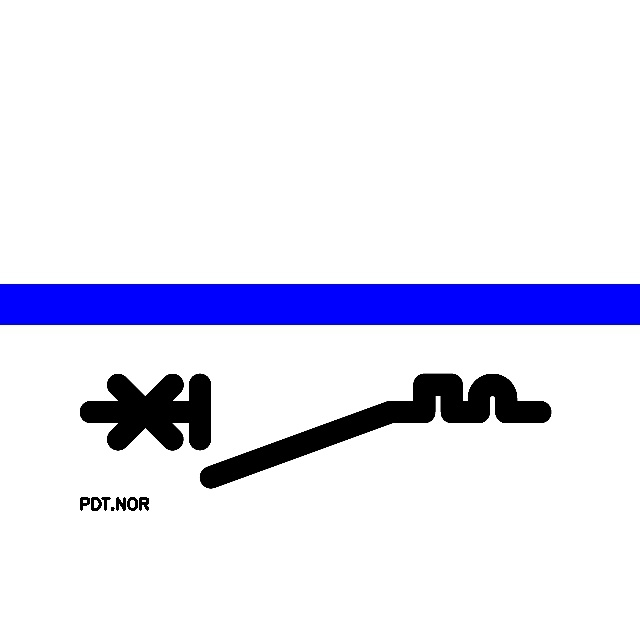interruptor_termomagnetico: (79, 373, 552, 488)
